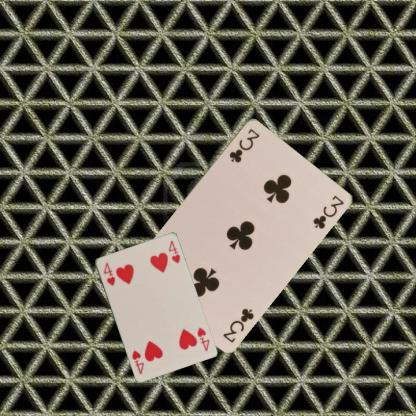3c: (220, 305, 256, 344), (226, 125, 261, 164)
4h: (194, 325, 210, 352), (101, 260, 116, 286)
